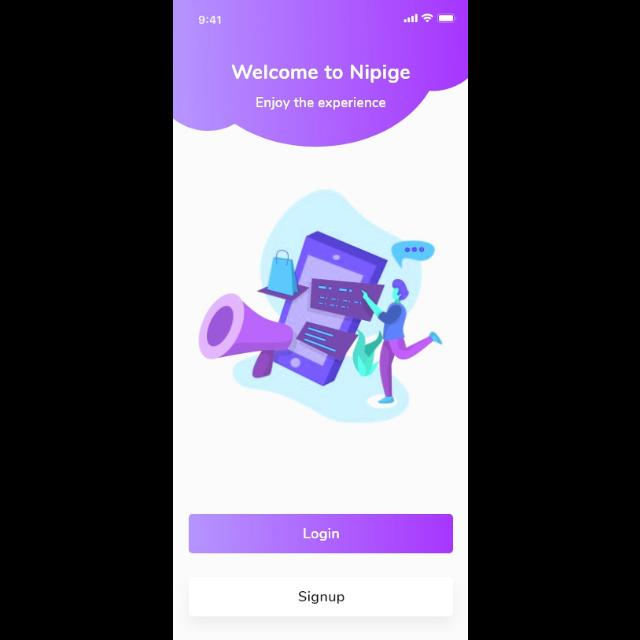image: (198, 189, 442, 423)
text: (230, 64, 410, 84), (256, 97, 386, 111)
textbutton: (189, 514, 453, 554), (189, 576, 453, 616)
uppertaskbar: (198, 13, 456, 24)
